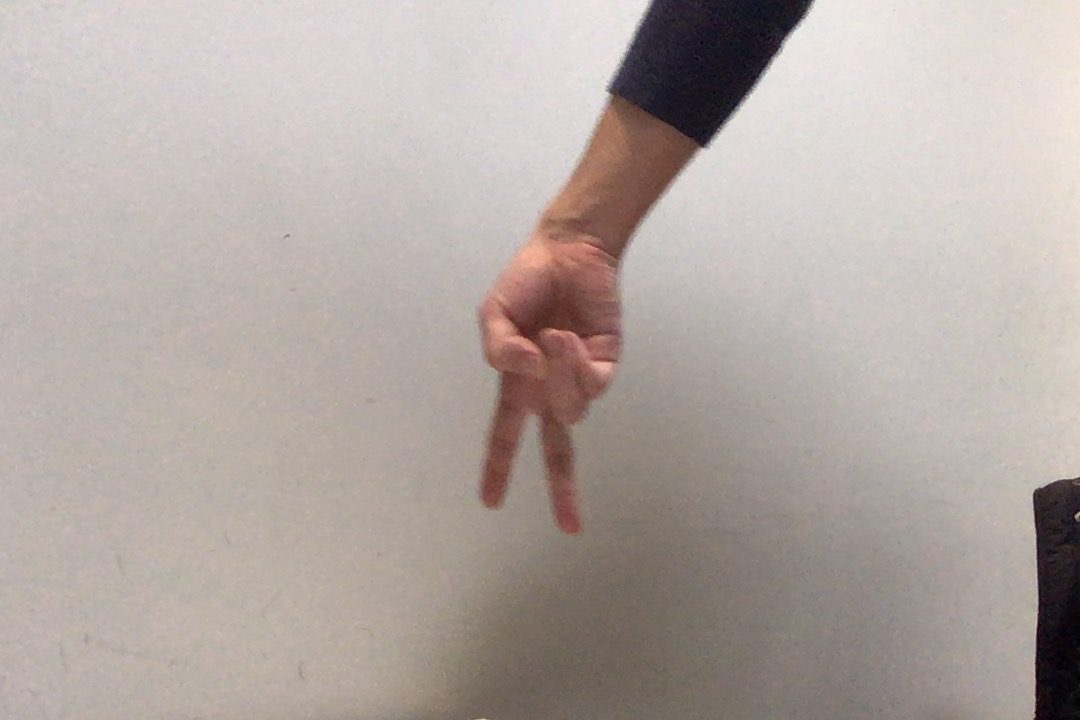peacesign: (471, 239, 628, 539)
